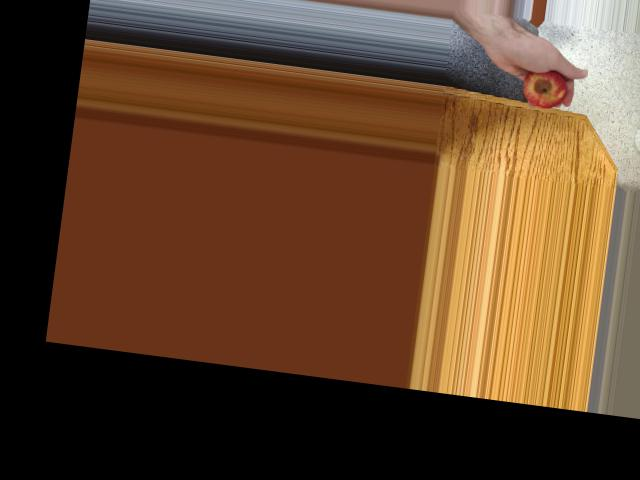apple: (516, 63, 571, 112)
